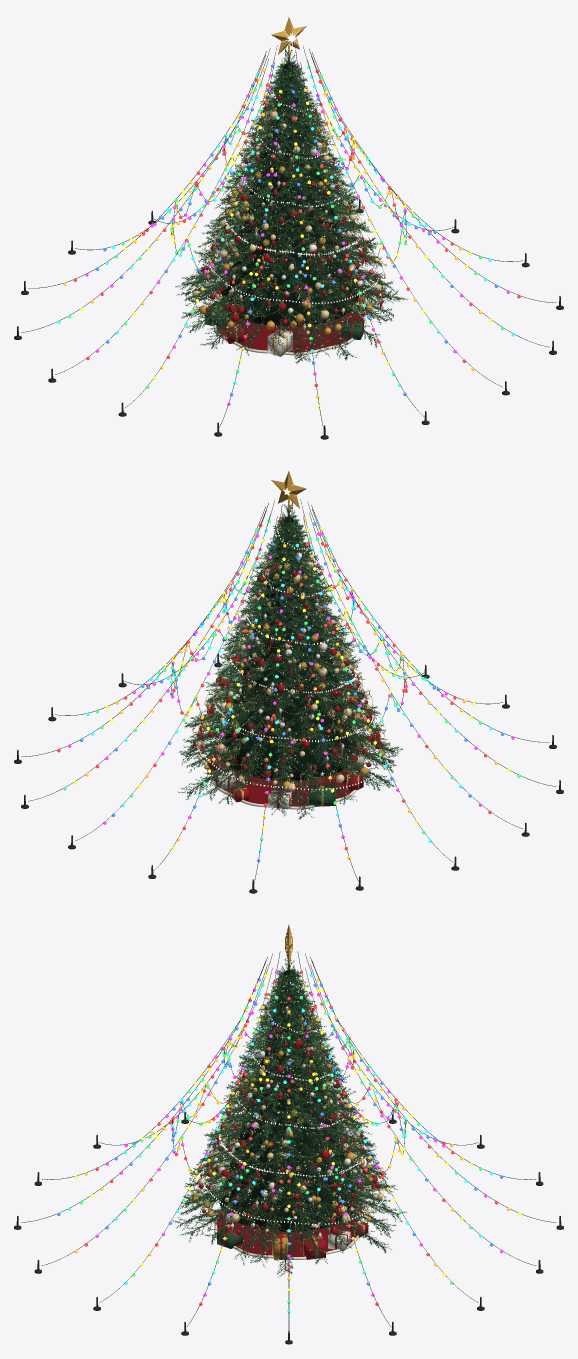
File: grand-christmas-tree-v005.glb
The picture shows the model from 3 angles, top to bottom: view 1: azimuth 30°, elevation 25°; view 2: azimuth 150°, elevation 25°; view 3: azimuth 270°, elevation 25°; orthographic projection.
Parts seen in each view (by area): view 1: needles, needle_fill, canopy_wire, branches, tree_skirt, ornament_champagne, ornament_red_gloss, ornament_beads, canopy_bulbs_cyan, canopy_bulbs_green, canopy_bulbs_yellow, canopy_bulbs_orange (+10 smaller); view 2: needles, needle_fill, canopy_wire, branches, ornament_champagne, ornament_red_gloss, tree_skirt, ornament_beads, canopy_bulbs_green, canopy_bulbs_yellow, canopy_bulbs_cyan, canopy_bulbs_orange (+12 smaller); view 3: needles, needle_fill, canopy_wire, branches, tree_skirt, ornament_champagne, ornament_red_gloss, ornament_beads, ornament_gold, canopy_bulbs_orange, canopy_bulbs_cyan, canopy_bulbs_red (+11 smaller).
Boxes of the visible parts, box(x1,y1,x2,y2) form: needles: box(175, 49, 407, 364); needle_fill: box(220, 63, 358, 326); canopy_wire: box(21, 45, 556, 428); branches: box(185, 56, 399, 360); tree_skirt: box(216, 312, 363, 352); ornament_champagne: box(192, 111, 381, 334); ornament_red_gloss: box(201, 96, 385, 324); ornament_beads: box(191, 109, 385, 325); canopy_bulbs_cyan: box(57, 73, 514, 386); canopy_bulbs_green: box(68, 65, 504, 388); canopy_bulbs_yellow: box(80, 63, 492, 408); canopy_bulbs_orange: box(63, 68, 482, 398); needles: box(177, 503, 402, 819); needle_fill: box(220, 516, 357, 780); canopy_wire: box(21, 499, 556, 882); branches: box(186, 510, 390, 814); ornament_champagne: box(196, 554, 371, 791); ornament_red_gloss: box(192, 545, 382, 787); tree_skirt: box(224, 768, 351, 806); ornament_beads: box(192, 552, 385, 779); canopy_bulbs_green: box(63, 519, 520, 840); canopy_bulbs_yellow: box(73, 527, 509, 849); canopy_bulbs_cyan: box(86, 517, 492, 852); canopy_bulbs_orange: box(85, 518, 497, 859); needles: box(172, 958, 407, 1277); needle_fill: box(219, 969, 358, 1231); canopy_wire: box(21, 951, 556, 1329); branches: box(180, 963, 399, 1272); tree_skirt: box(217, 1215, 356, 1256); ornament_champagne: box(198, 1009, 384, 1232); ornament_red_gloss: box(202, 1026, 377, 1234); ornament_beads: box(193, 1003, 384, 1230); ornament_gold: box(192, 1016, 371, 1221); canopy_bulbs_orange: box(74, 978, 509, 1280); canopy_bulbs_cyan: box(68, 973, 493, 1313); canopy_bulbs_red: box(84, 970, 498, 1305).
Bounding box in the file's own units: 12.58 × 7.71 × 12.57.
